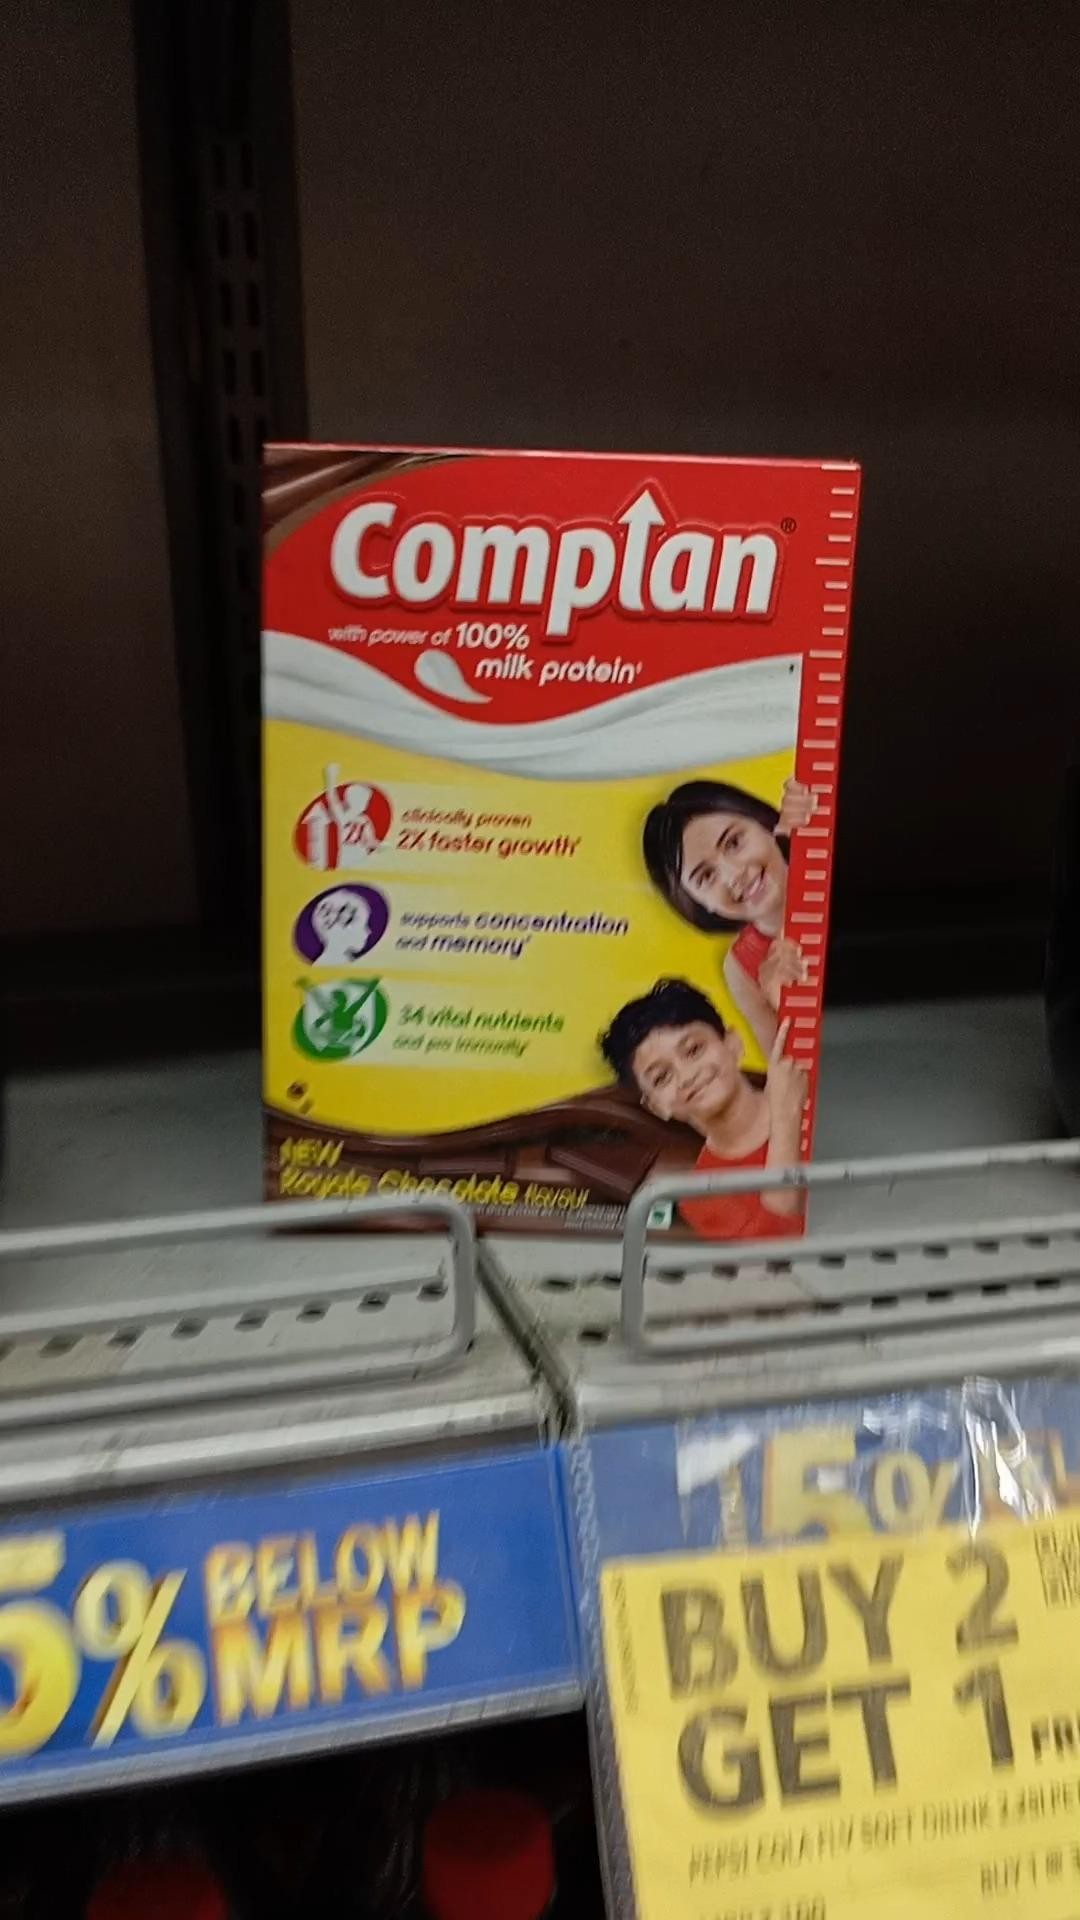COMPLAN_CHOCOLATE_200_GMS_PACK: (265, 455, 800, 1225)
